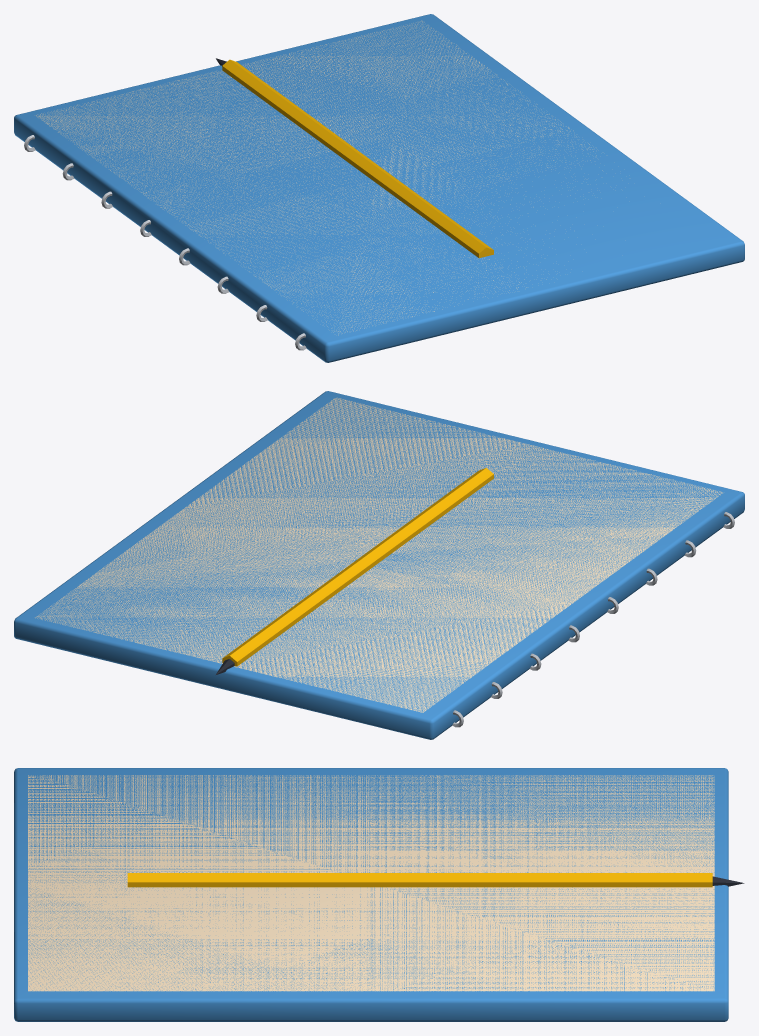
File: prop_notebook_v2.glb
The picture shows the model from 3 angles, top to bottom: view 1: azimuth 30°, elevation 25°; view 2: azimuth 150°, elevation 25°; view 3: azimuth 270°, elevation 25°; orthographic projection. The views are drawn at different scales.
Parts seen in each view (by area): view 1: NotebookV2; view 2: NotebookV2; view 3: NotebookV2.
Part boxes in pixels (x1,y1,x2,y2): NotebookV2: (14,14,744,362); NotebookV2: (14,391,744,739); NotebookV2: (14,768,744,1021).
Bounding box in the file's own units: 3.48 × 0.236 × 4.5.
